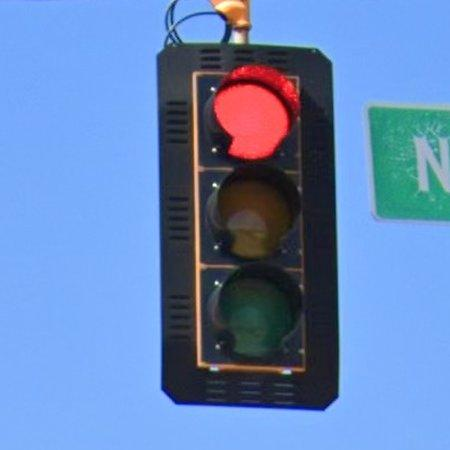traffic lights: (155, 40, 346, 406)
